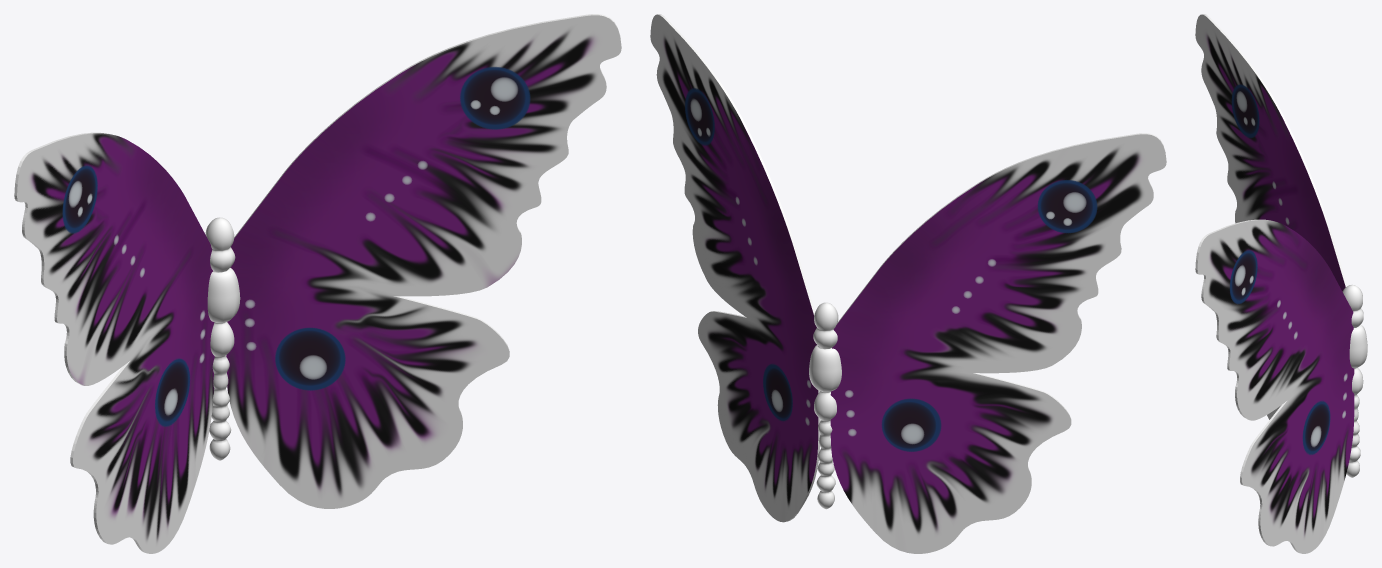
Rendered from Violet_Beauregard.gltf.
3 views of the same model, side by side, from view 1: azimuth 30°, elevation 25°; view 2: azimuth 150°, elevation 25°; view 3: azimuth 270°, elevation 25° (orthographic). The views are drawn at different scales.
Parts seen in each view (by area): view 1: butterfly-wing-right.001, butterfly-wing-right, butterfly mesh; view 2: butterfly-wing-right, butterfly-wing-right.001, butterfly mesh; view 3: butterfly-wing-right.001, butterfly-wing-right, butterfly mesh.
Boxes of the visible parts, x1,y1,x2,y2 form: butterfly-wing-right.001: (226, 14, 621, 508); butterfly-wing-right: (14, 132, 214, 553); butterfly mesh: (205, 217, 240, 460); butterfly-wing-right: (830, 133, 1166, 553); butterfly-wing-right.001: (650, 14, 820, 522); butterfly mesh: (809, 302, 841, 509); butterfly-wing-right.001: (1195, 219, 1354, 553); butterfly-wing-right: (1195, 14, 1347, 419); butterfly mesh: (1342, 284, 1367, 477).
Size of the model in its own units: 2.29 by 1.78 by 0.7076.
Materials: 2 (1 with a texture image).
